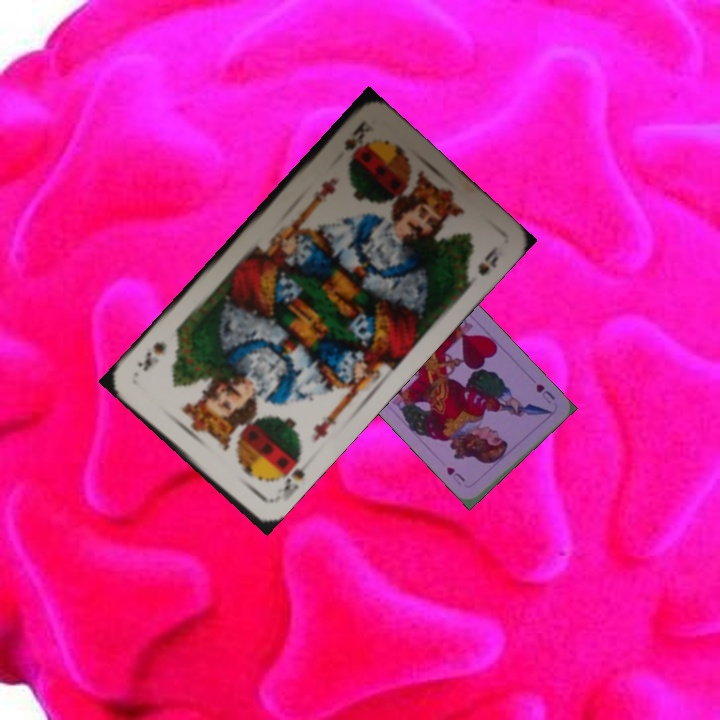HU: (532, 380, 557, 406)
SK: (266, 451, 310, 506), (340, 117, 374, 154)
